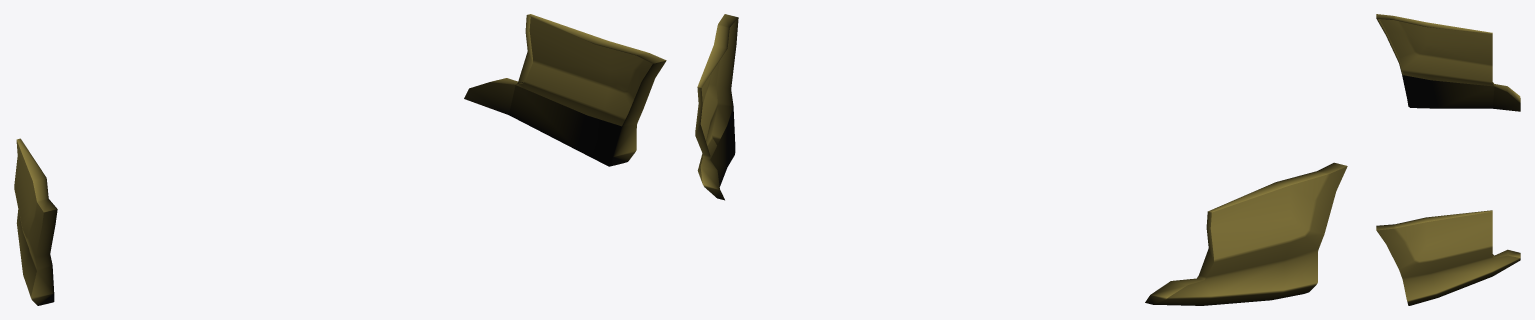
The model's file is Supra_RearBar_05_Duco.fbx.
The picture shows the model from 3 angles, left to right: view 1: azimuth 30°, elevation 25°; view 2: azimuth 150°, elevation 25°; view 3: azimuth 270°, elevation 25°; orthographic projection. The views are drawn at different scales.
Parts seen in each view (by area): view 1: Supra_RearBar_05_Duco; view 2: Supra_RearBar_05_Duco; view 3: Supra_RearBar_05_Duco.
Part boxes in pixels (x1,y1,x2,y2): Supra_RearBar_05_Duco: [14, 14, 666, 305]; Supra_RearBar_05_Duco: [695, 14, 1347, 305]; Supra_RearBar_05_Duco: [1376, 14, 1520, 305].
Bounding box in the file's own units: 185 × 32.81 × 52.09.
